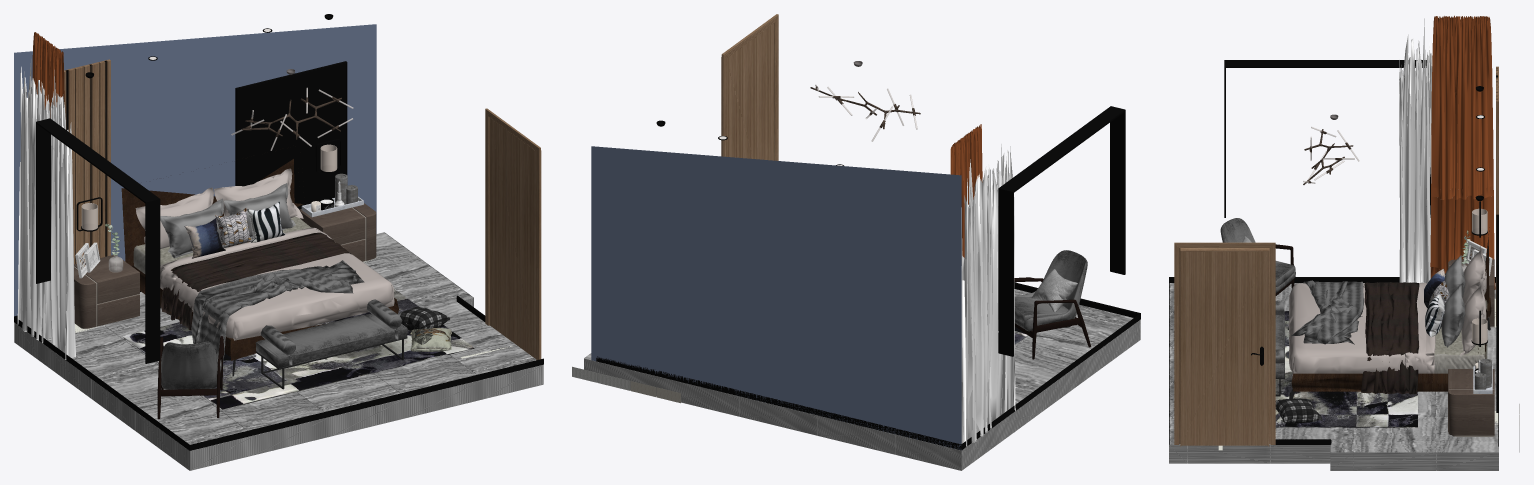
The model's file is master_bedroom.glb.
3 views of the same model, side by side, from view 1: azimuth 30°, elevation 25°; view 2: azimuth 150°, elevation 25°; view 3: azimuth 270°, elevation 25° (orthographic). The views are drawn at different scales.
Parts seen in each view (by area): view 1: bedroom.024, bedroom.022, bedroom.003, bedroom.004, bedroom.013, bedroom.026, bedroom.031, bedroom.018, bedroom, bedroom.030, bedroom.041, bedroom.027 (+12 smaller); view 2: bedroom.022, bedroom.024, bedroom.003, bedroom.013, bedroom.004, bedroom.057, bedroom.002, bedroom.056, bedroom.055, bedroom.061; view 3: bedroom.004, bedroom.002, bedroom.024, bedroom.026, bedroom.013, bedroom.030, bedroom.018, bedroom.031, bedroom.003, bedroom, bedroom.041, bedroom.027 (+7 smaller).
Boxes of the visible parts, <box> form: bedroom.024: <box>14,232,543,470</box>; bedroom.022: <box>14,24,376,316</box>; bedroom.003: <box>14,60,543,450</box>; bedroom.004: <box>64,59,541,360</box>; bedroom.013: <box>17,59,76,359</box>; bedroom.026: <box>135,168,394,340</box>; bedroom.031: <box>189,260,407,367</box>; bedroom.018: <box>123,288,474,409</box>; bedroom: <box>74,203,376,328</box>; bedroom.030: <box>160,232,351,330</box>; bedroom.041: <box>121,159,399,360</box>; bedroom.027: <box>160,183,295,258</box>; bedroom.022: <box>591,146,961,450</box>; bedroom.024: <box>584,289,1140,470</box>; bedroom.003: <box>596,106,1140,450</box>; bedroom.013: <box>961,144,1015,446</box>; bedroom.004: <box>721,14,778,160</box>; bedroom.057: <box>1014,250,1087,331</box>; bedroom.002: <box>950,124,982,257</box>; bedroom.056: <box>1014,277,1091,359</box>; bedroom.055: <box>1031,269,1077,312</box>; bedroom.061: <box>572,366,630,390</box>; bedroom.004: <box>1174,66,1498,446</box>; bedroom.002: <box>1430,15,1495,289</box>; bedroom.024: <box>1169,283,1498,470</box>; bedroom.026: <box>1288,246,1486,376</box>; bedroom.013: <box>1399,18,1432,283</box>; bedroom.030: <box>1361,282,1419,394</box>; bedroom.018: <box>1275,311,1417,427</box>; bedroom.031: <box>1275,280,1363,377</box>; bedroom.003: <box>1169,60,1498,446</box>; bedroom: <box>1448,259,1494,435</box>; bedroom.041: <box>1291,227,1491,391</box>; bedroom.027: <box>1441,255,1465,347</box>.
Size of what is drawn, in the model's own units: 4.03 by 3.12 by 3.39.
60 materials, 36 textured.
